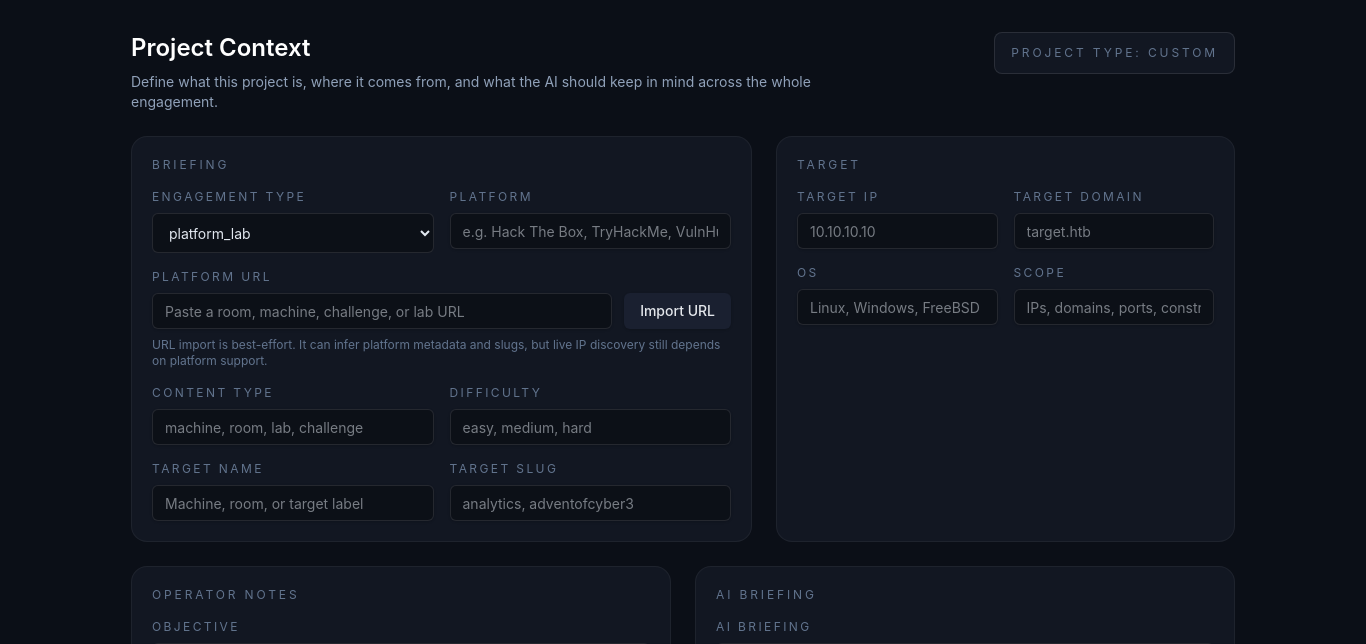
Test case: ProjectContextPanel › imports a TryHackMe URL into structured platform fields
The width and height of the screenshot is (1366, 644).
Step 1. Type "https://tryhackme.com/room/adventofcyber3" into the field labelled "Platform URL" → (382, 311), box [152,293,612,329]
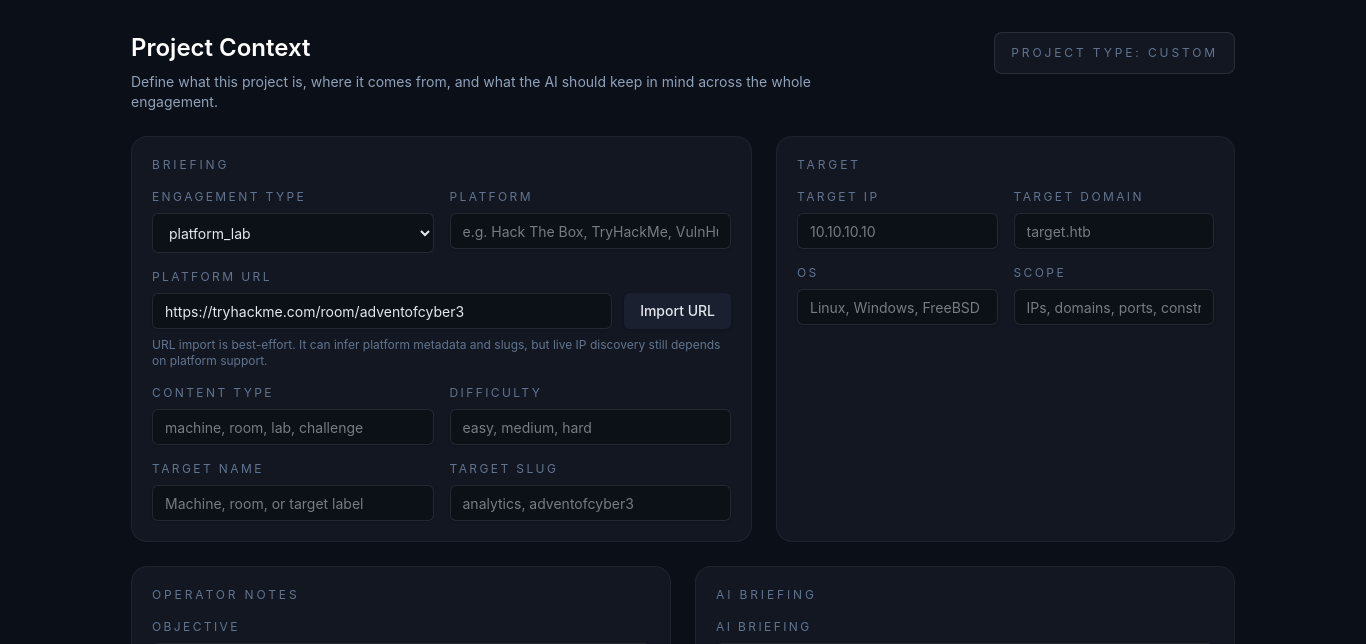
Step 2. Click the button "Import URL" → (678, 311), box [624,293,731,329]
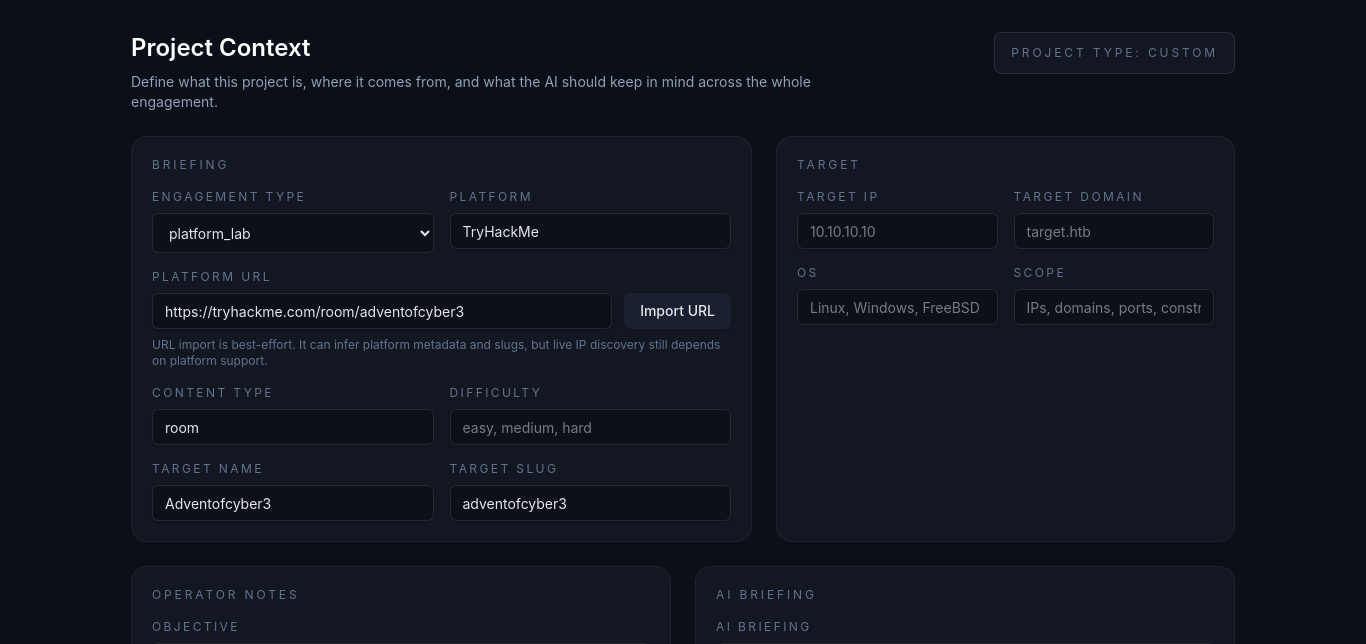
Expected: the field labelled "Platform" holds "TryHackMe", [450,213,731,249]
Expected: the field labelled "Content Type" holds "room", [152,409,434,445]
Expected: the field labelled "Target Slug" holds "adventofcyber3", [450,485,731,521]
